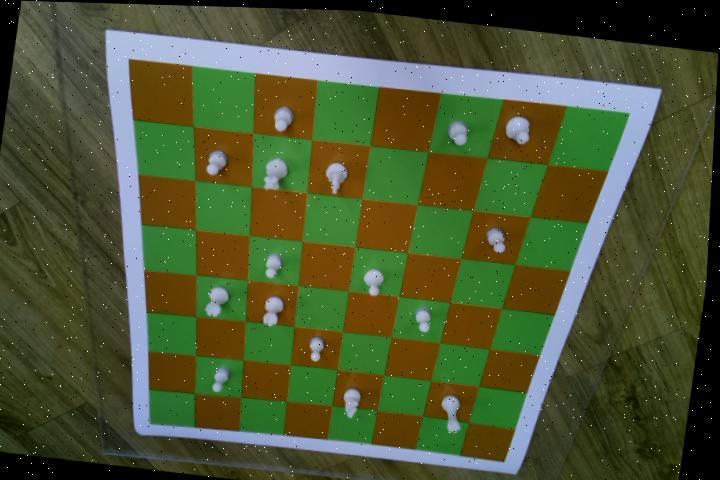chessboard-detect: (129, 58, 632, 459)
